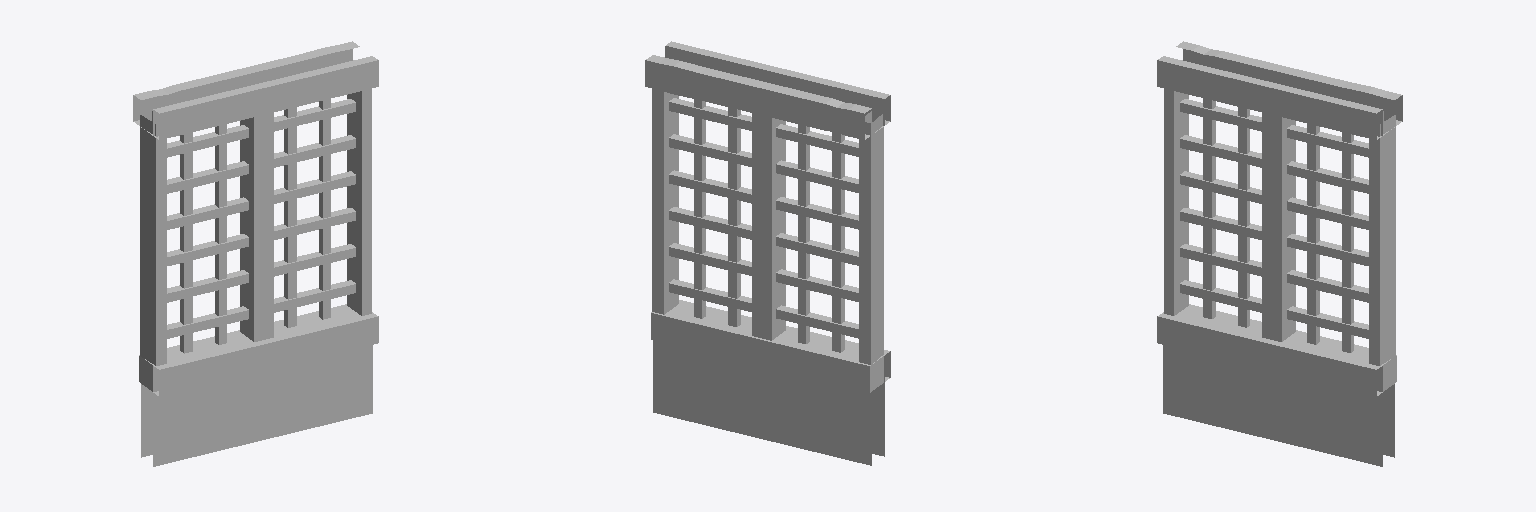
The model's file is Wall_Plaster_WoodGrid.obj.
The picture shows the model from 3 angles: view 1: azimuth 30°, elevation 25°; view 2: azimuth 150°, elevation 25°; view 3: azimuth 330°, elevation 25°; orthographic projection.
Visible parts, largest first — view 1: Wall_Plaster_WoodGrid; view 2: Wall_Plaster_WoodGrid; view 3: Wall_Plaster_WoodGrid.
Boxes of the visible parts, x1,y1,x2,y2 form: Wall_Plaster_WoodGrid: [133, 41, 378, 466]; Wall_Plaster_WoodGrid: [645, 41, 890, 465]; Wall_Plaster_WoodGrid: [1157, 41, 1402, 466].
Size of the model in its own units: 2 by 3.12 by 0.4065.